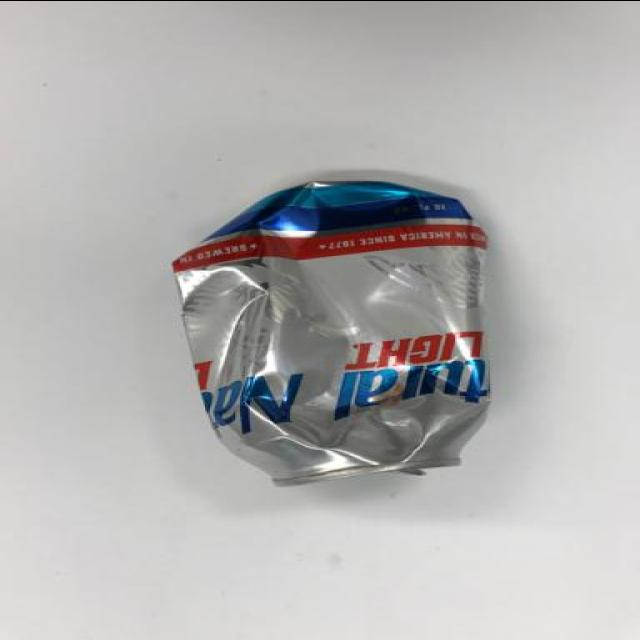Aluminum Can: (166, 169, 488, 489)
